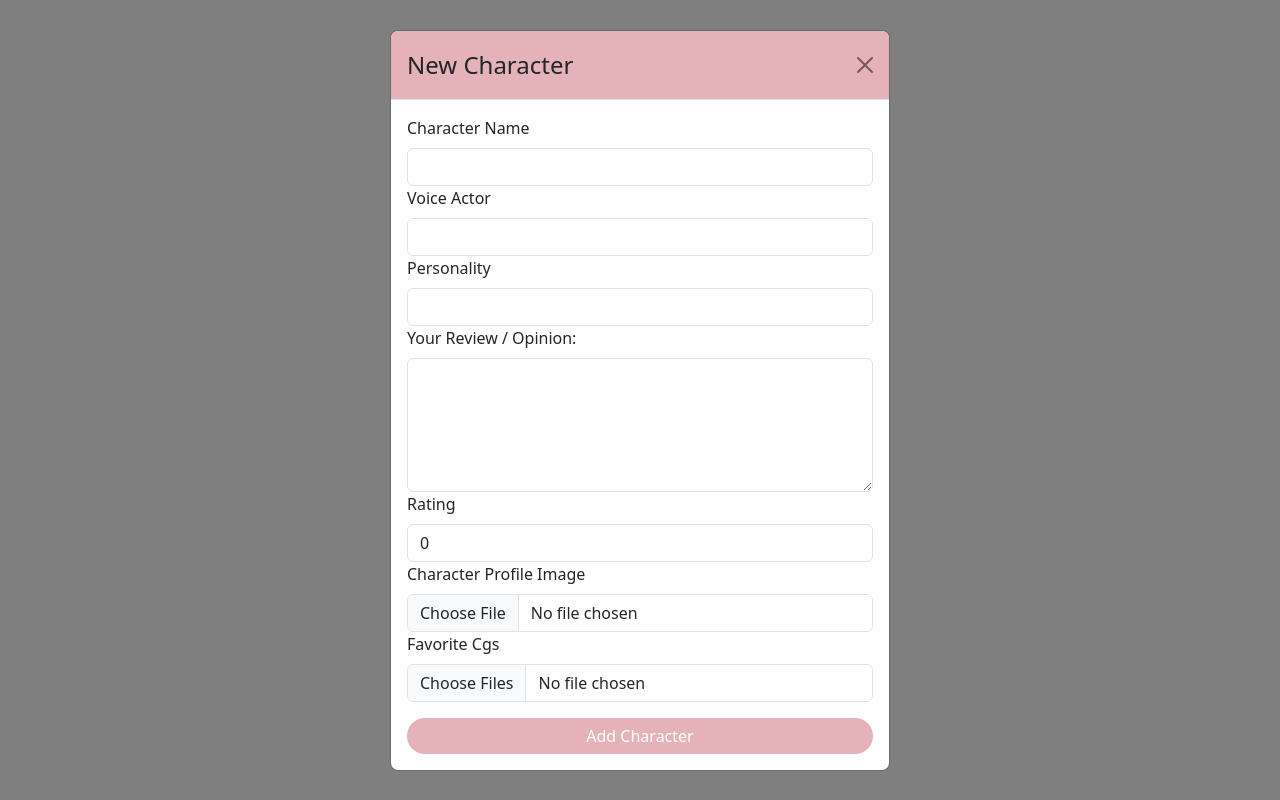
Test case: AddCharacter Component › shows notification after submission
The width and height of the screenshot is (1280, 800).
In the field labelled "Character Name": (640, 166) x1=407 y1=148 x2=873 y2=186, type "Alice"
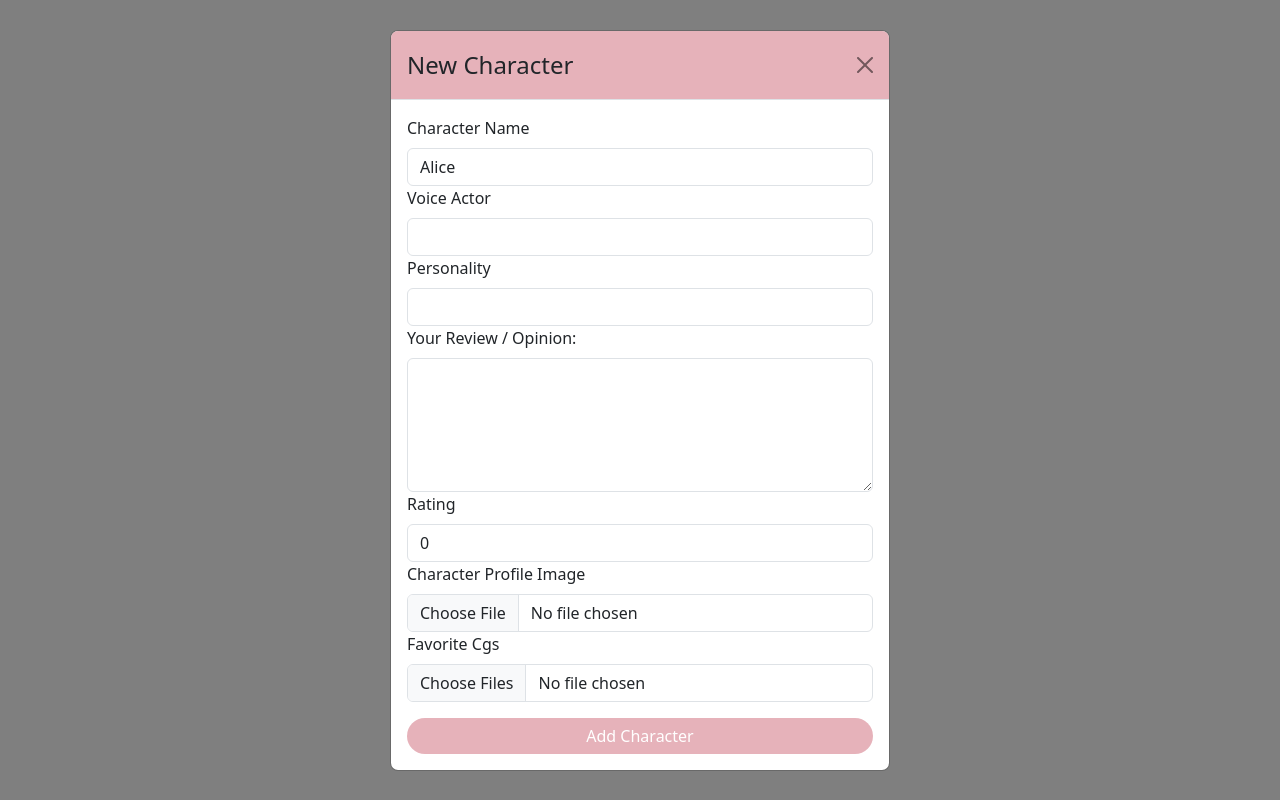
In the field labelled "Voice Actor": (640, 236) x1=407 y1=218 x2=873 y2=256, type "VA Name"
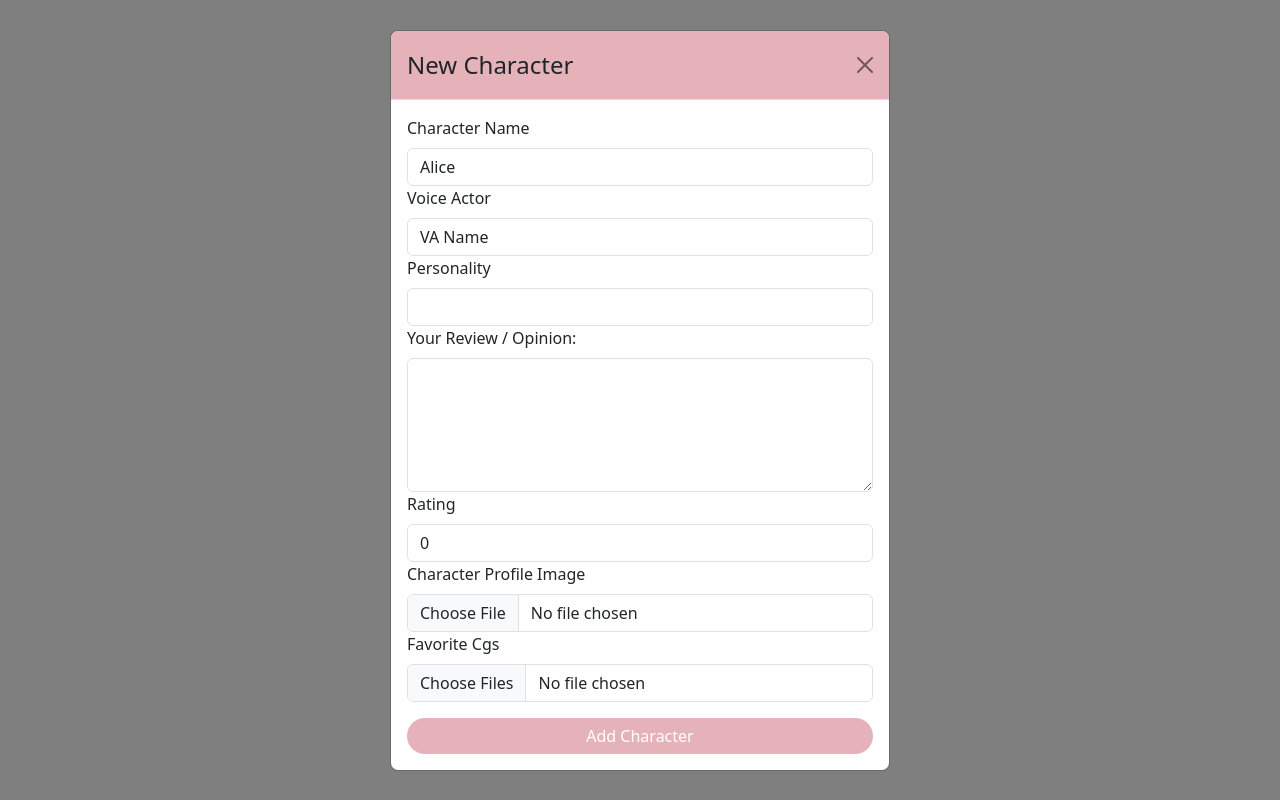
In the field labelled "Personality": (640, 306) x1=407 y1=288 x2=873 y2=326, type "Cheerful"
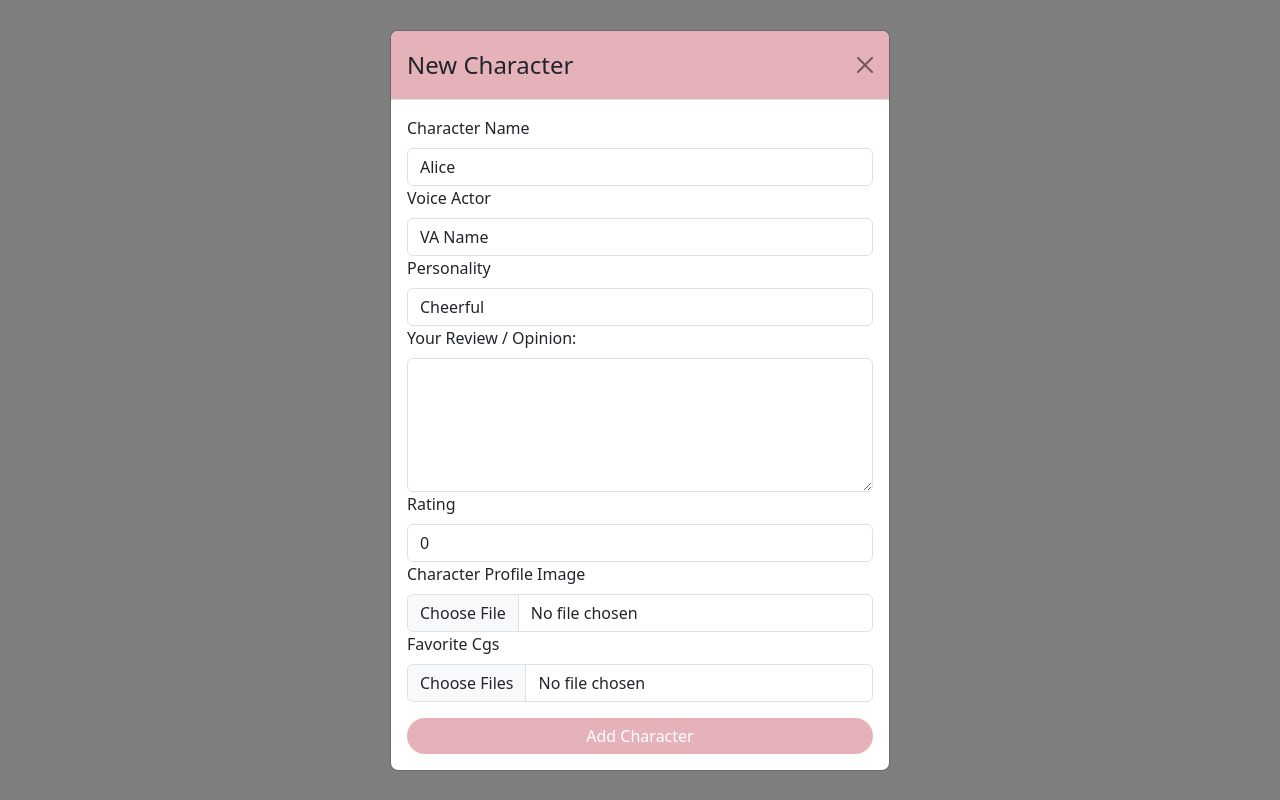
In the text box labelled "Your Review / Opinion:": (640, 424) x1=407 y1=358 x2=873 y2=492, type "Fun!"
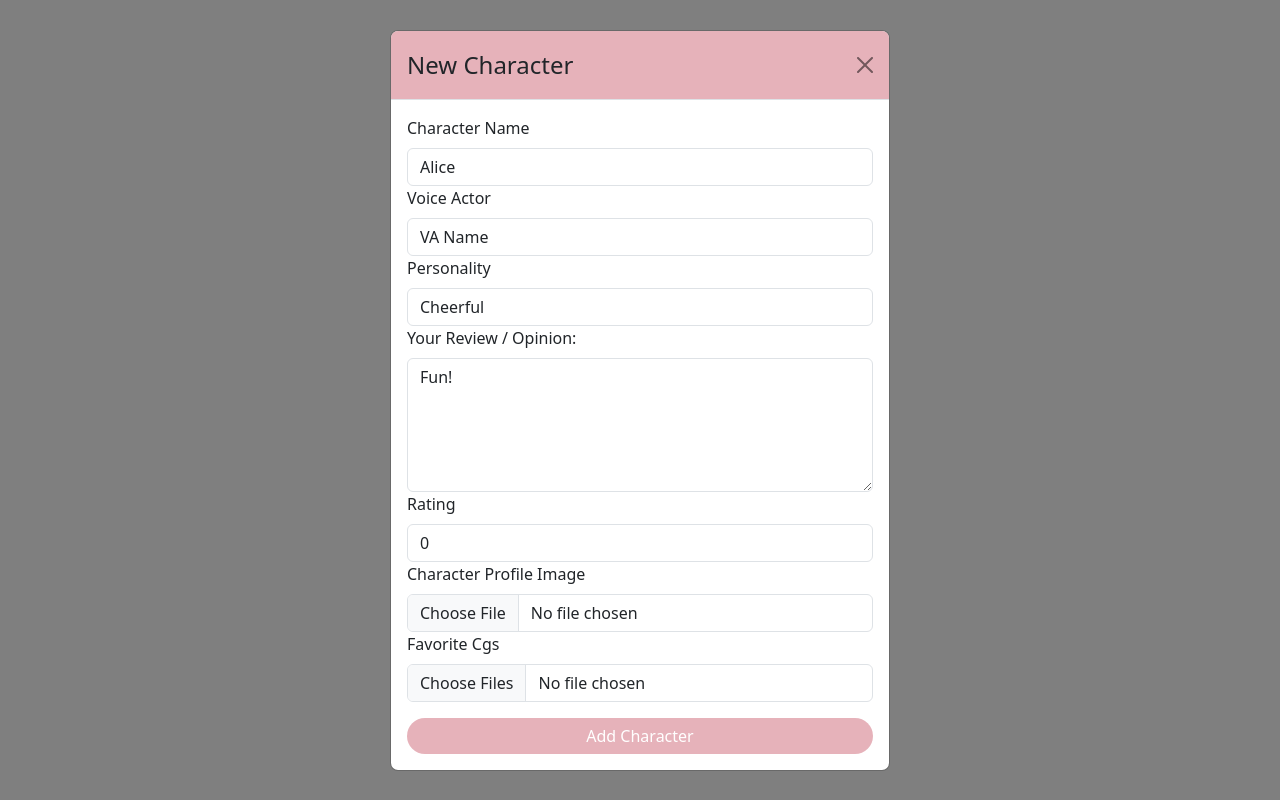
Replace the text in the number field labelled "Rating" with "4": (640, 542) x1=407 y1=524 x2=873 y2=562
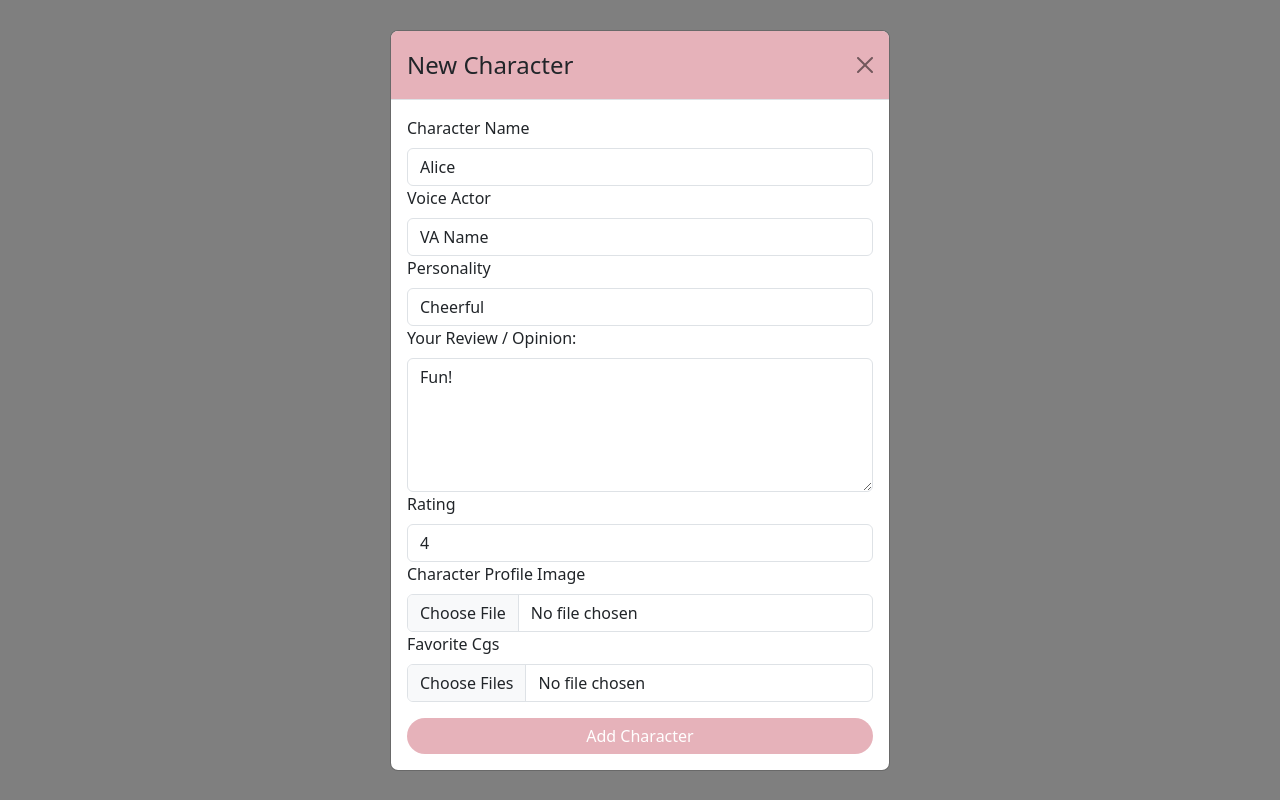
Click the button "Add Character": (640, 736) x1=407 y1=718 x2=873 y2=754
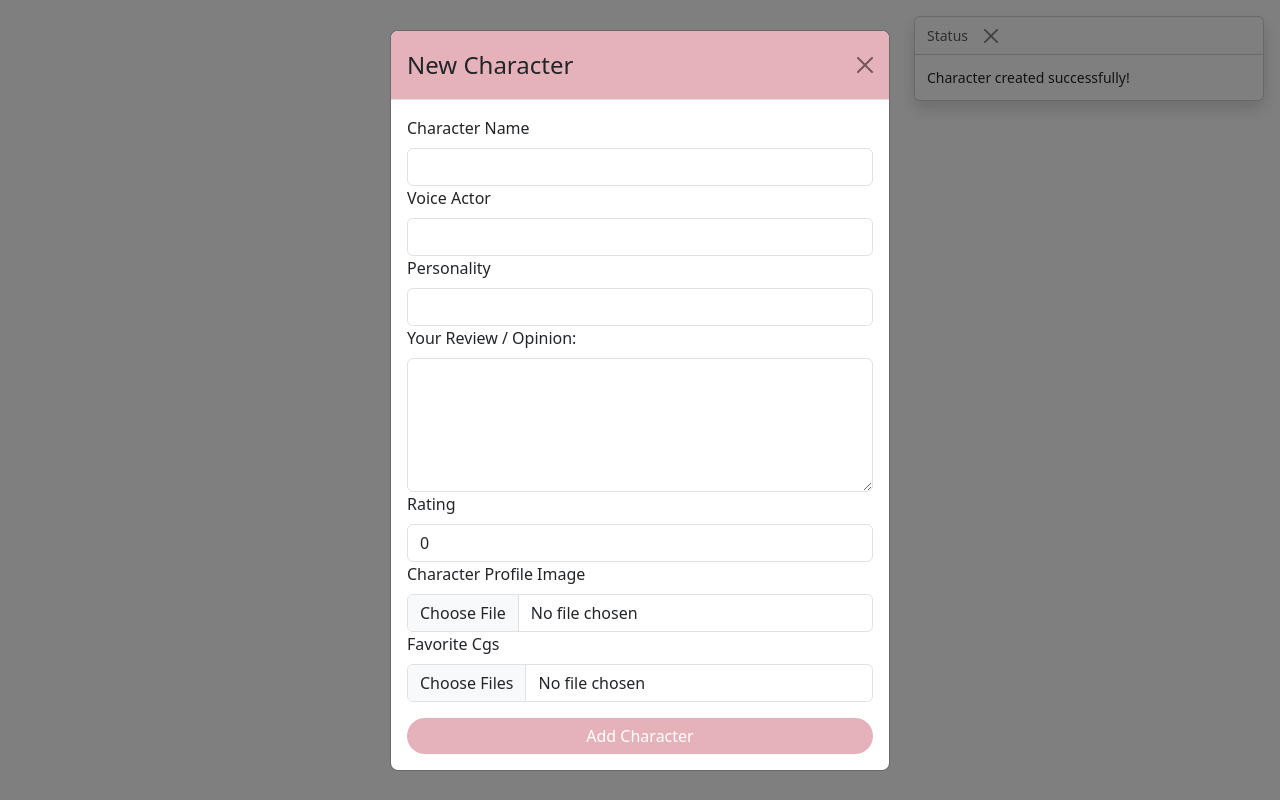
Result: the text "Character created successfully!" is shown at x1=927 y1=68 x2=1130 y2=87
